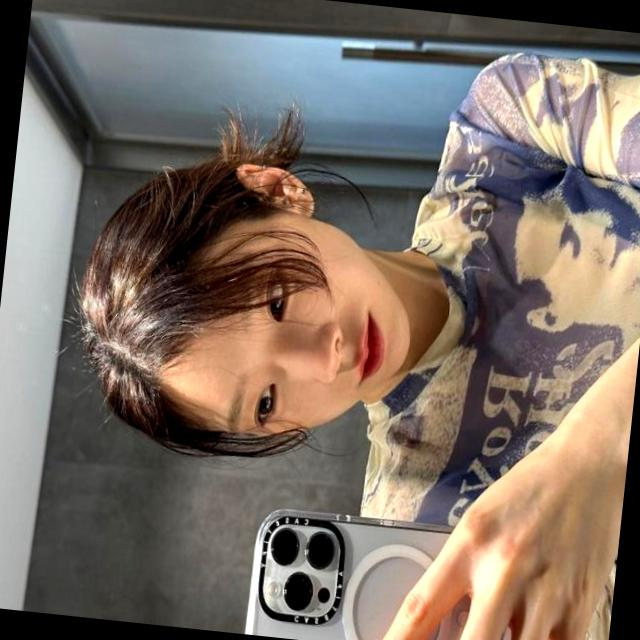lens_back: (279, 566, 315, 614), (266, 523, 304, 566), (302, 528, 340, 570)
phone: (244, 508, 551, 640)
